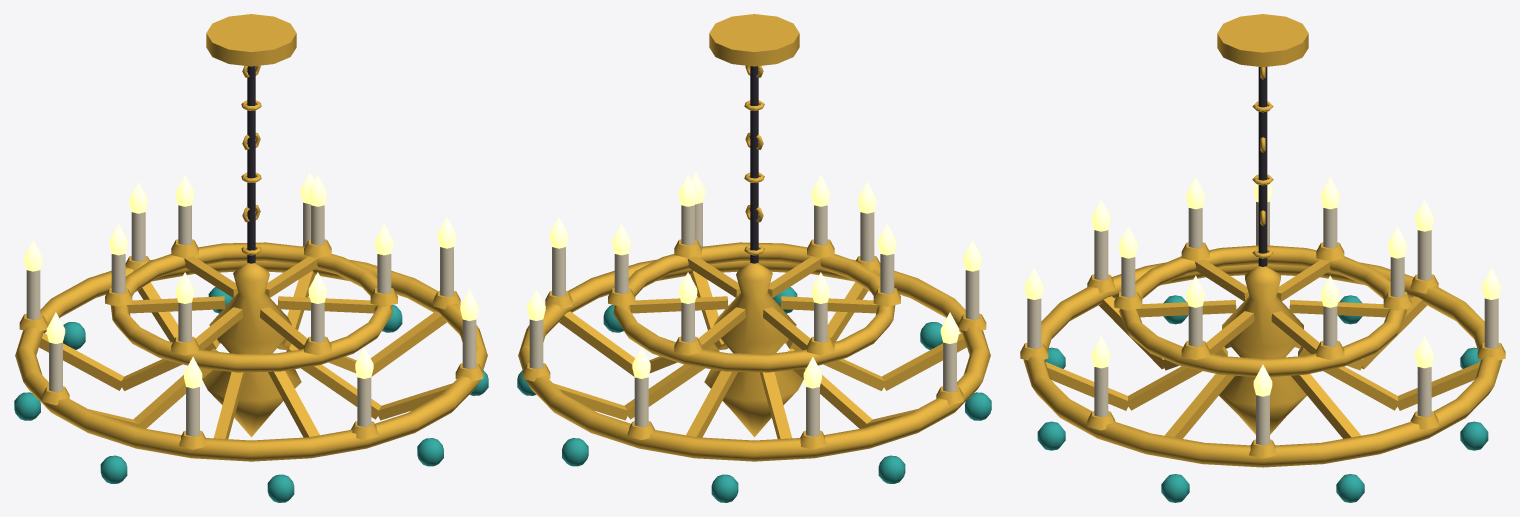
Rendered from chandelier.glb.
3 renders of one model, left to right at view 1: azimuth 30°, elevation 25°; view 2: azimuth 150°, elevation 25°; view 3: azimuth 270°, elevation 25°, orthographic.
Visible parts, largest first — view 1: chandelier; view 2: chandelier; view 3: chandelier.
Boxes of the visible parts, <box> form: chandelier: <box>14,14,488,502</box>; chandelier: <box>517,14,991,502</box>; chandelier: <box>1020,14,1505,502</box>.
Bounding box in the file's own units: 1.82 × 1.68 × 1.8.
